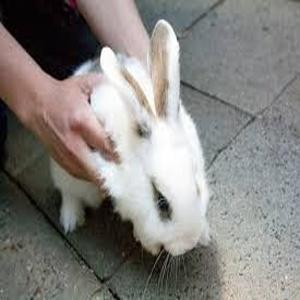rabbit: (72, 20, 212, 258), (49, 158, 102, 235)
